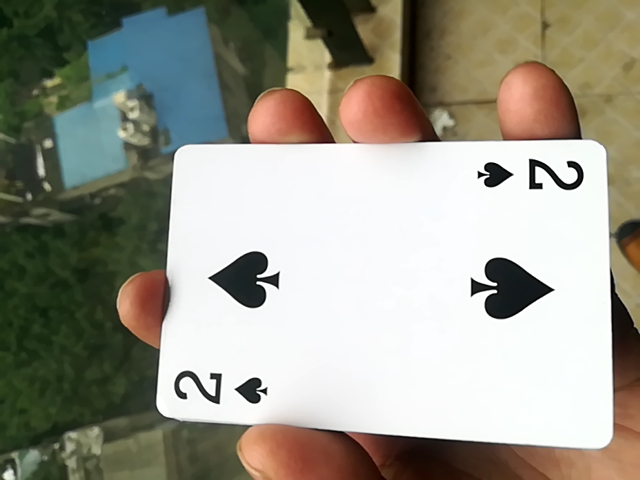ht 2: (142, 135, 609, 457)
